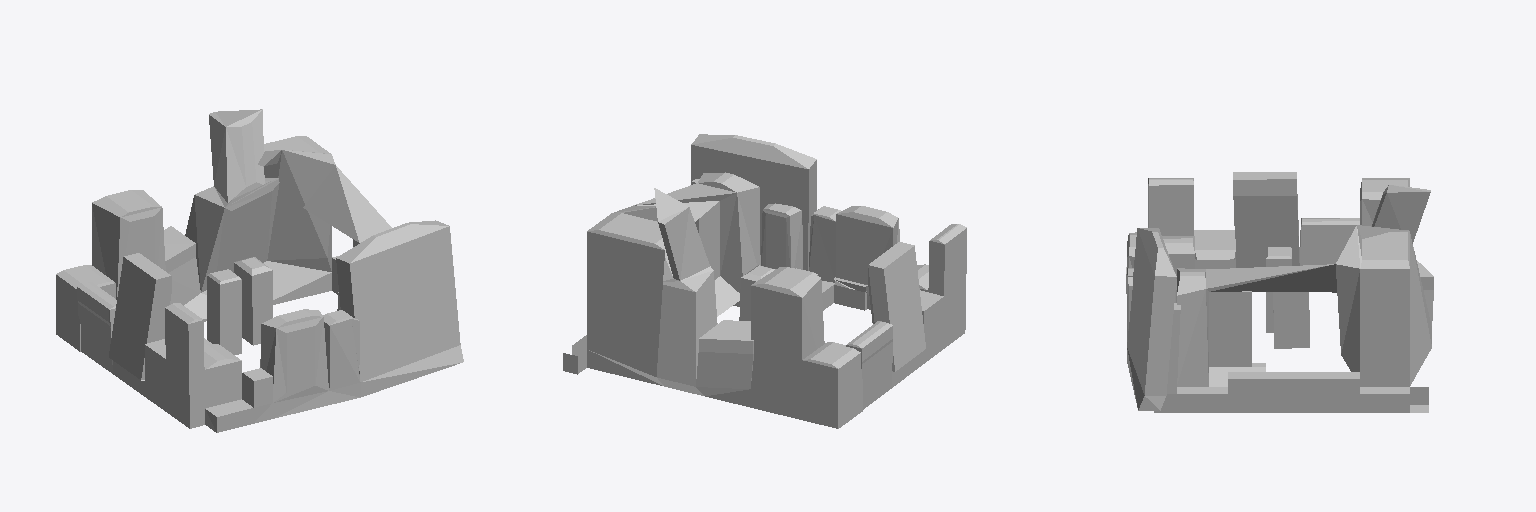
Rendered from backgroundold.obj.
3 renders of one model, left to right at view 1: azimuth 30°, elevation 25°; view 2: azimuth 150°, elevation 25°; view 3: azimuth 270°, elevation 25°, orthographic.
Size of the model in its own units: 264 by 171 by 257.